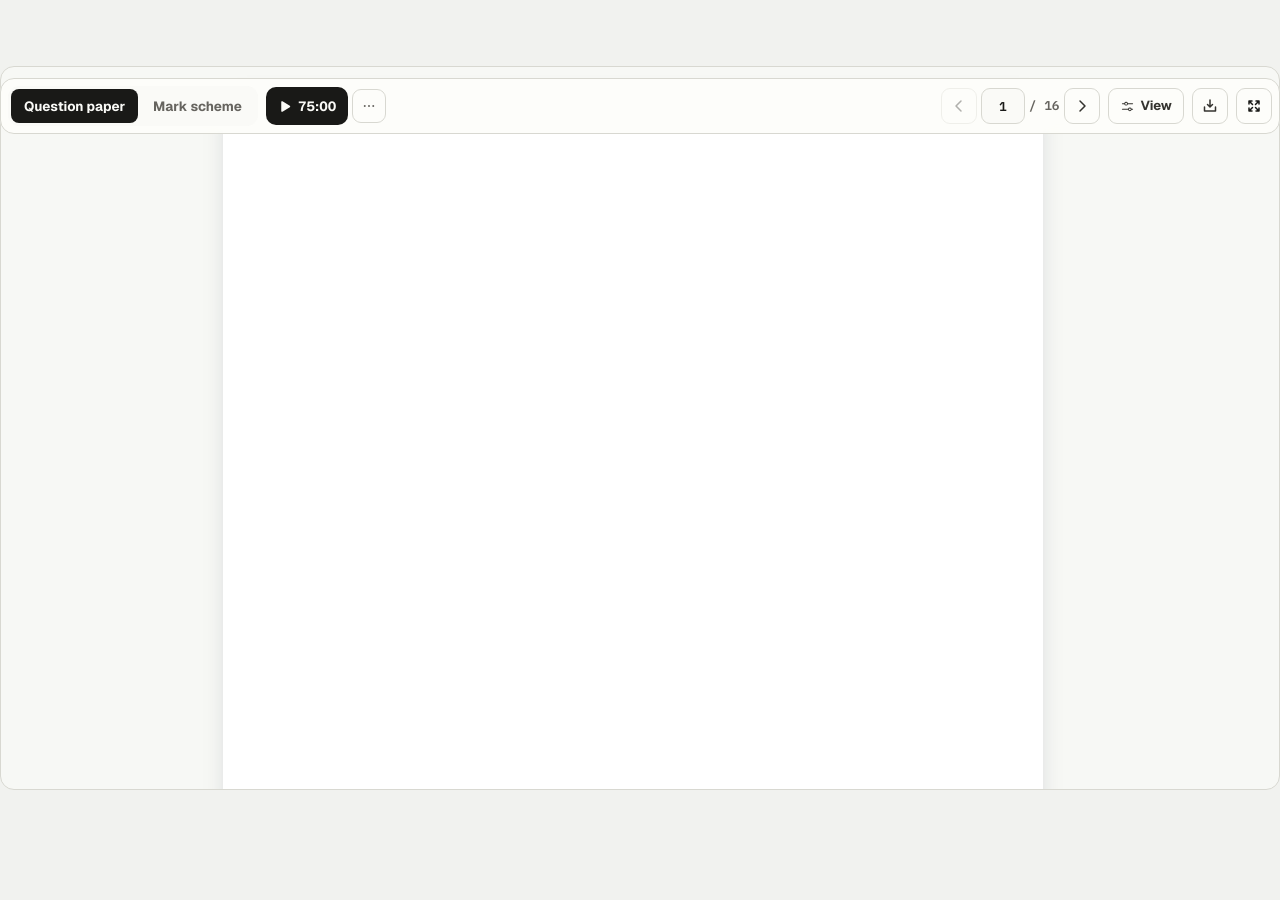
Scenario: PastPaperReader › validates custom minutes and announces expiry without taking away the PDF
The width and height of the screenshot is (1280, 900).
Expected: the picture named "Question paper, page 1" is shown, x1=222 y1=85 x2=1042 y2=790
Click the button named "Custom duration" at (369, 106), box x1=352 y1=89 x2=386 y2=123
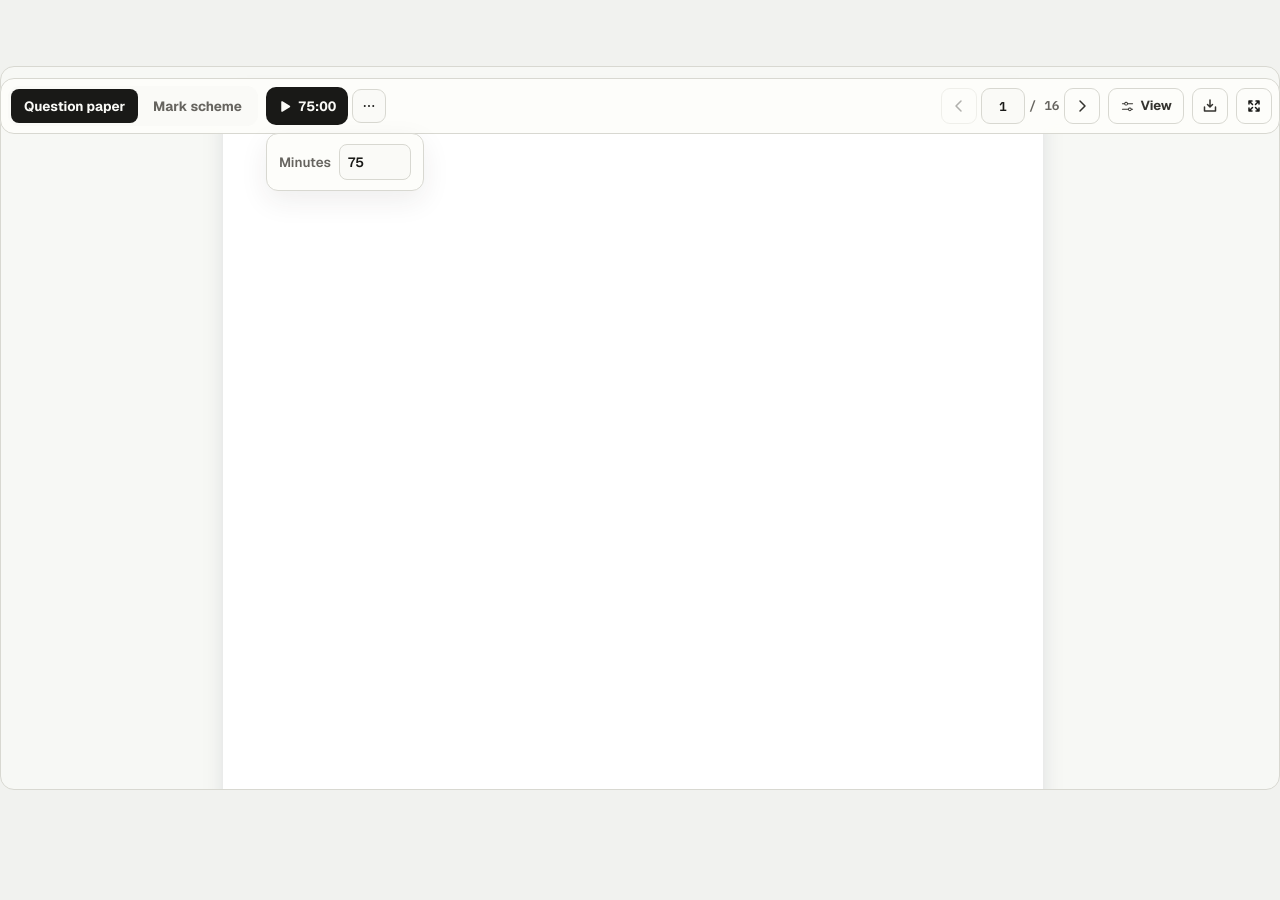
Replace the text in the number field named "Timer minutes" with "0" at (375, 162), box x1=339 y1=144 x2=411 y2=180
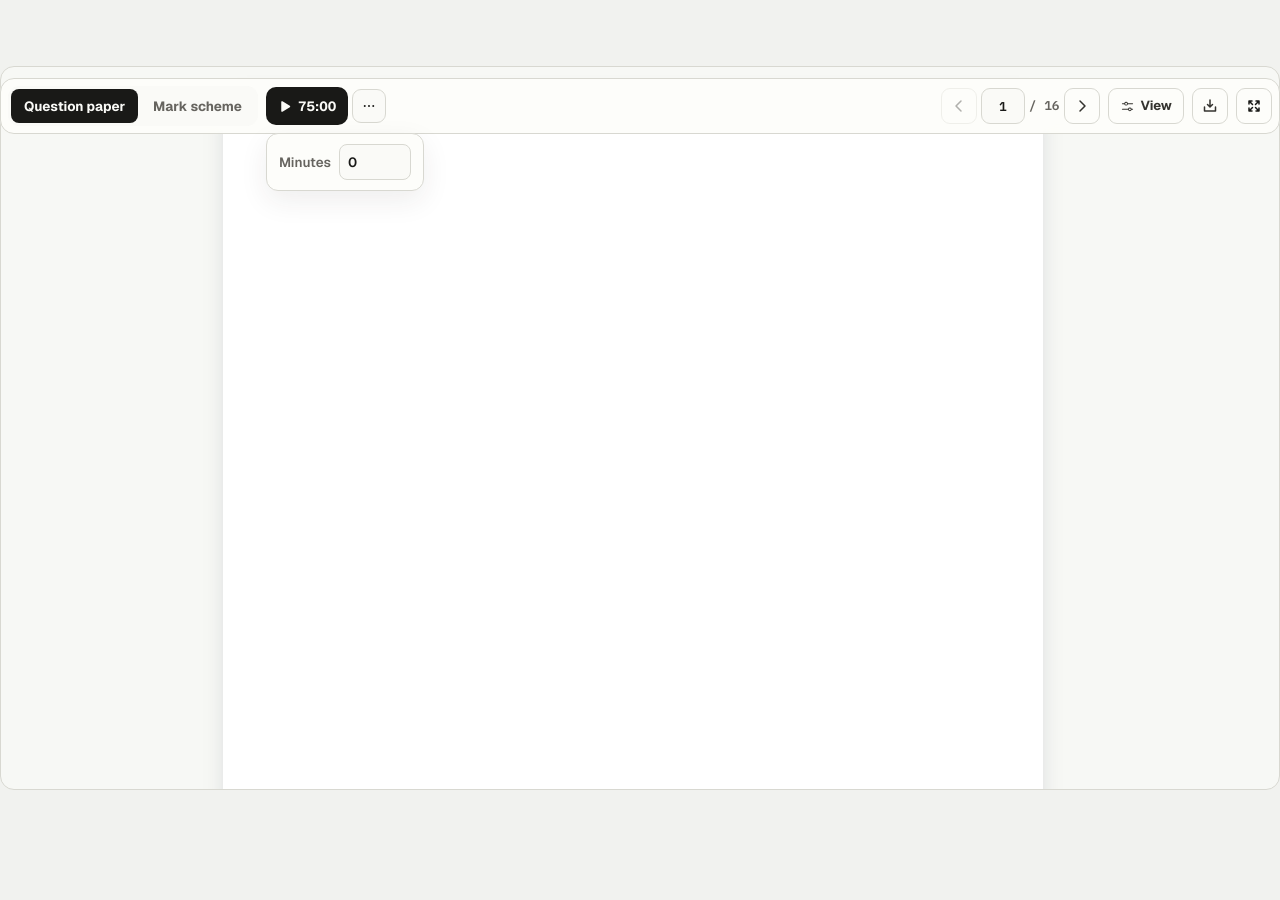
Click the button named "Start timer" at (307, 106), box x1=266 y1=87 x2=348 y2=125
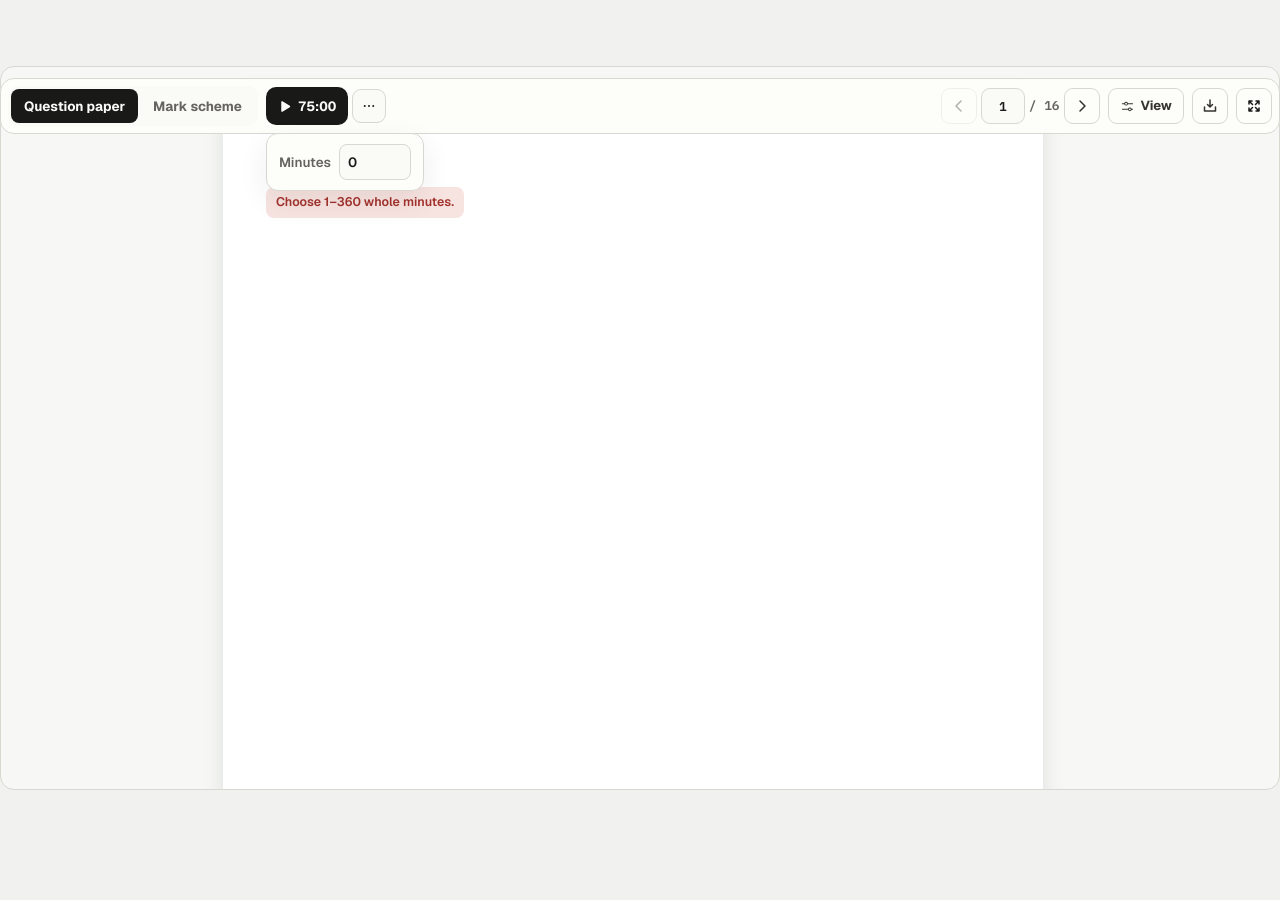
Now the message shows "1–360 whole minutes", box x1=276 y1=193 x2=454 y2=210
Replace the text in the number field named "Timer minutes" with "1" at (375, 162), box x1=339 y1=144 x2=411 y2=180
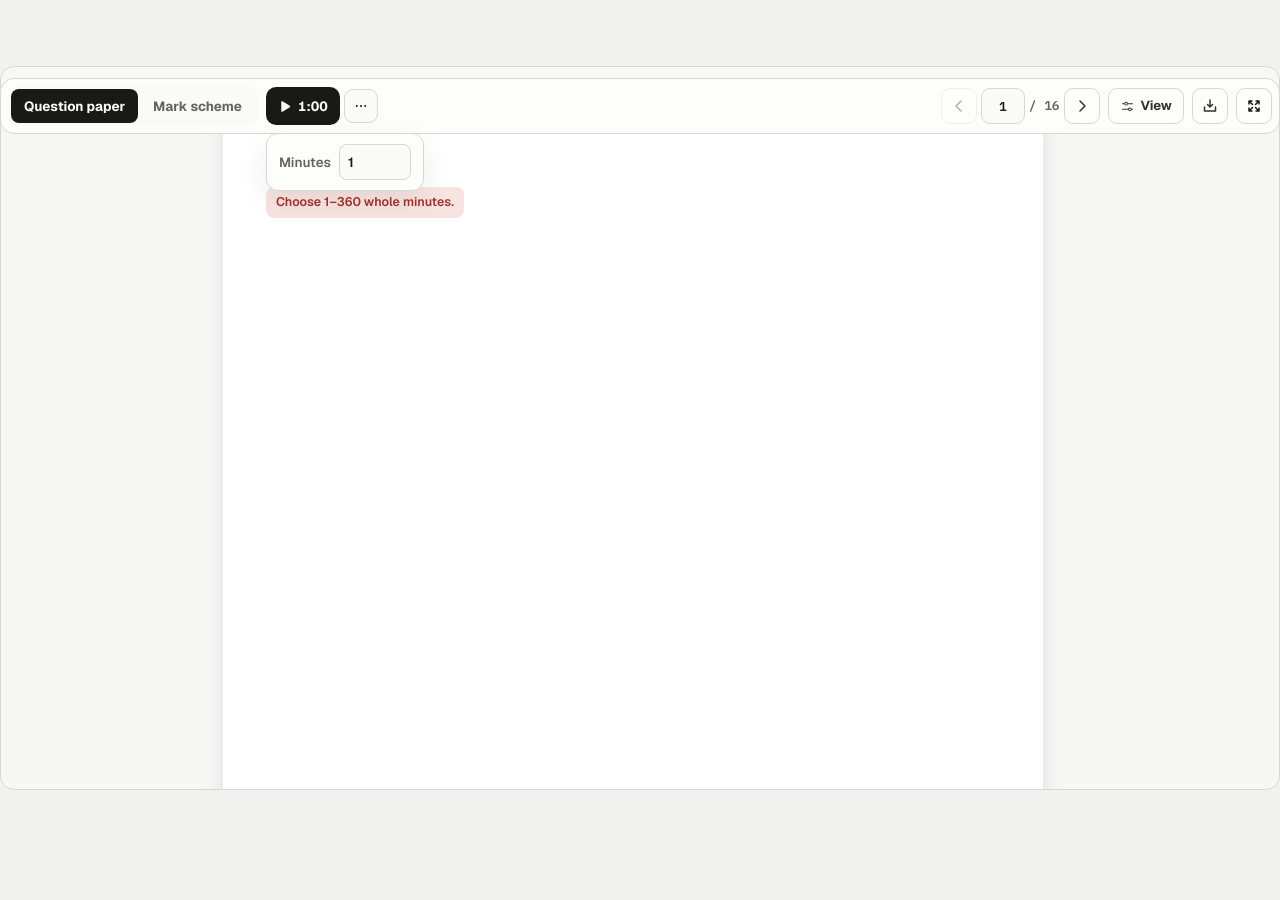
Click the button named "Start timer" at (303, 106), box x1=266 y1=87 x2=340 y2=125
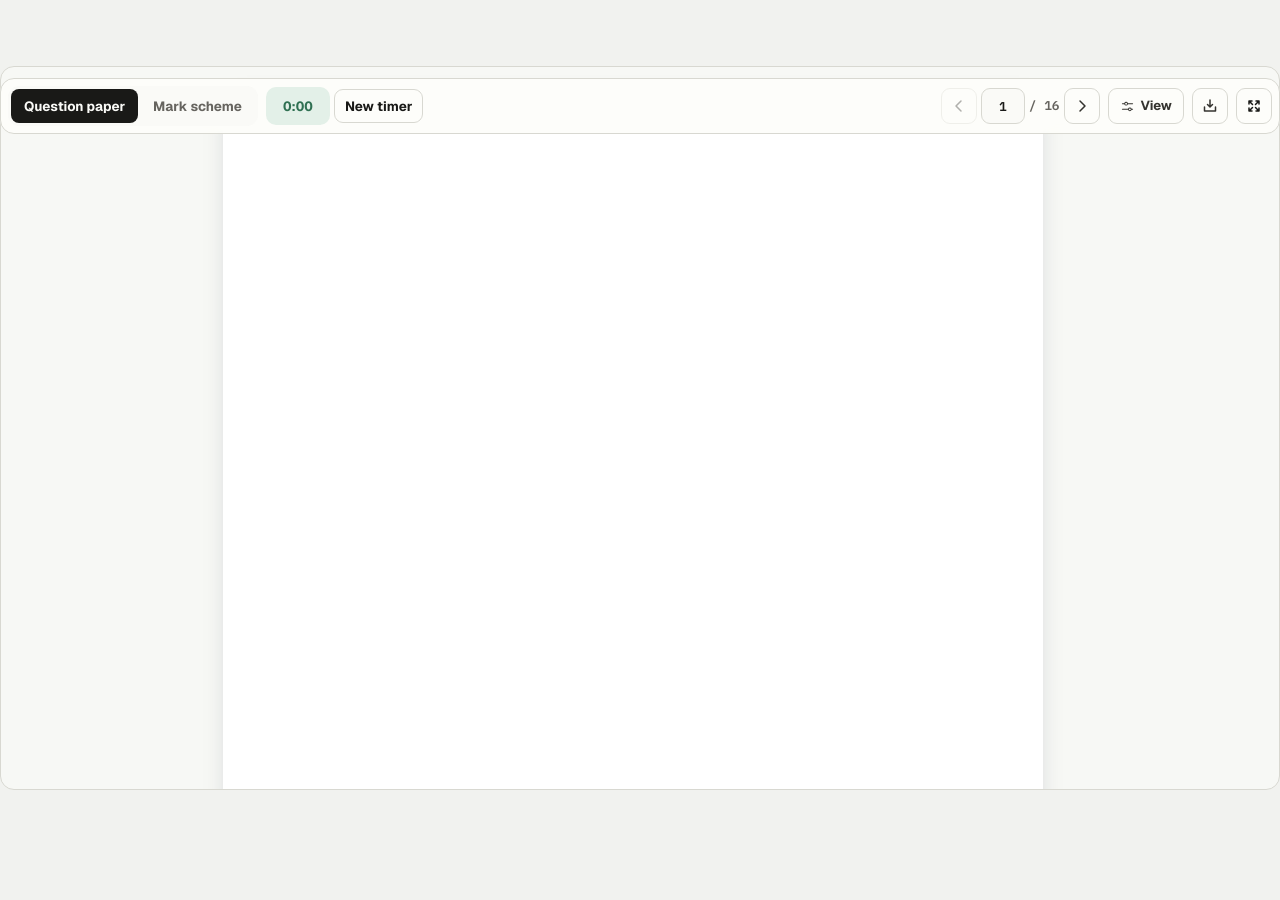
Expected: the picture named "Question paper, page 1" is shown, x1=222 y1=85 x2=1042 y2=790
Now the text named "Time remaining" reads "0:00", box x1=283 y1=97 x2=313 y2=115
Click the button "New timer" at (379, 106), box x1=334 y1=89 x2=423 y2=123
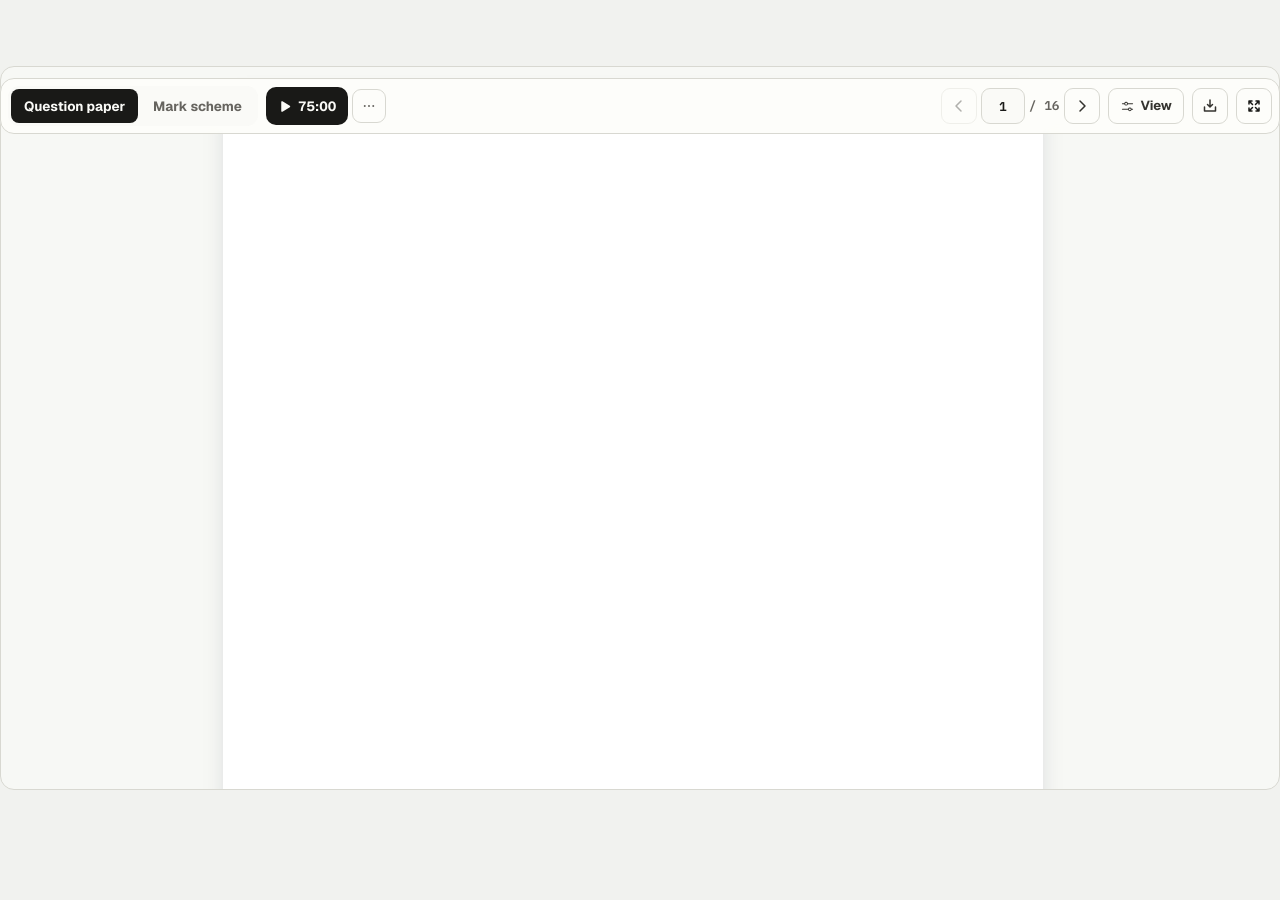
Now the button named "Start timer" is shown, box x1=266 y1=87 x2=348 y2=125
